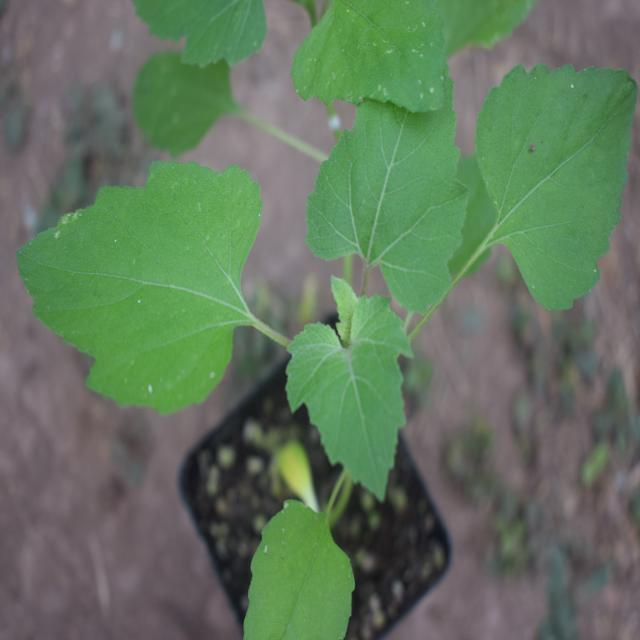cocklebur: (13, 54, 608, 544)
